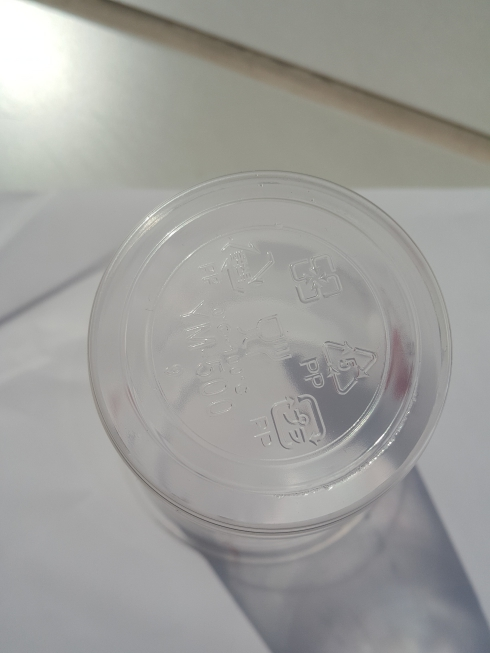recycle: (299, 332, 383, 396)
